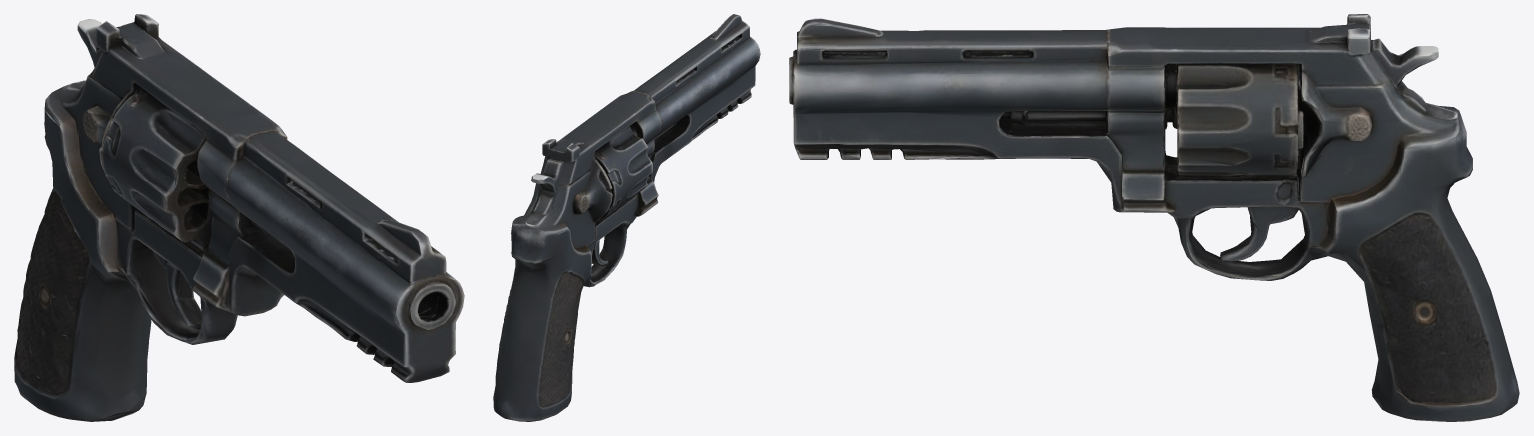
The model's file is revolver_rustique.medium.glb.
3 renders of one model, left to right at view 1: azimuth 30°, elevation 25°; view 2: azimuth 150°, elevation 25°; view 3: azimuth 270°, elevation 25°, orthographic. The views are drawn at different scales.
Parts seen in each view (by area): view 1: model; view 2: model; view 3: model.
Part boxes in pixels (x1=…): model: x1=14, y1=14, x2=464, y2=421; model: x1=493, y1=14, x2=760, y2=421; model: x1=789, y1=14, x2=1519, y2=421.
Size of the model in its own units: 0.0505 by 0.1665 by 0.29.
1 material, 1 textured.
